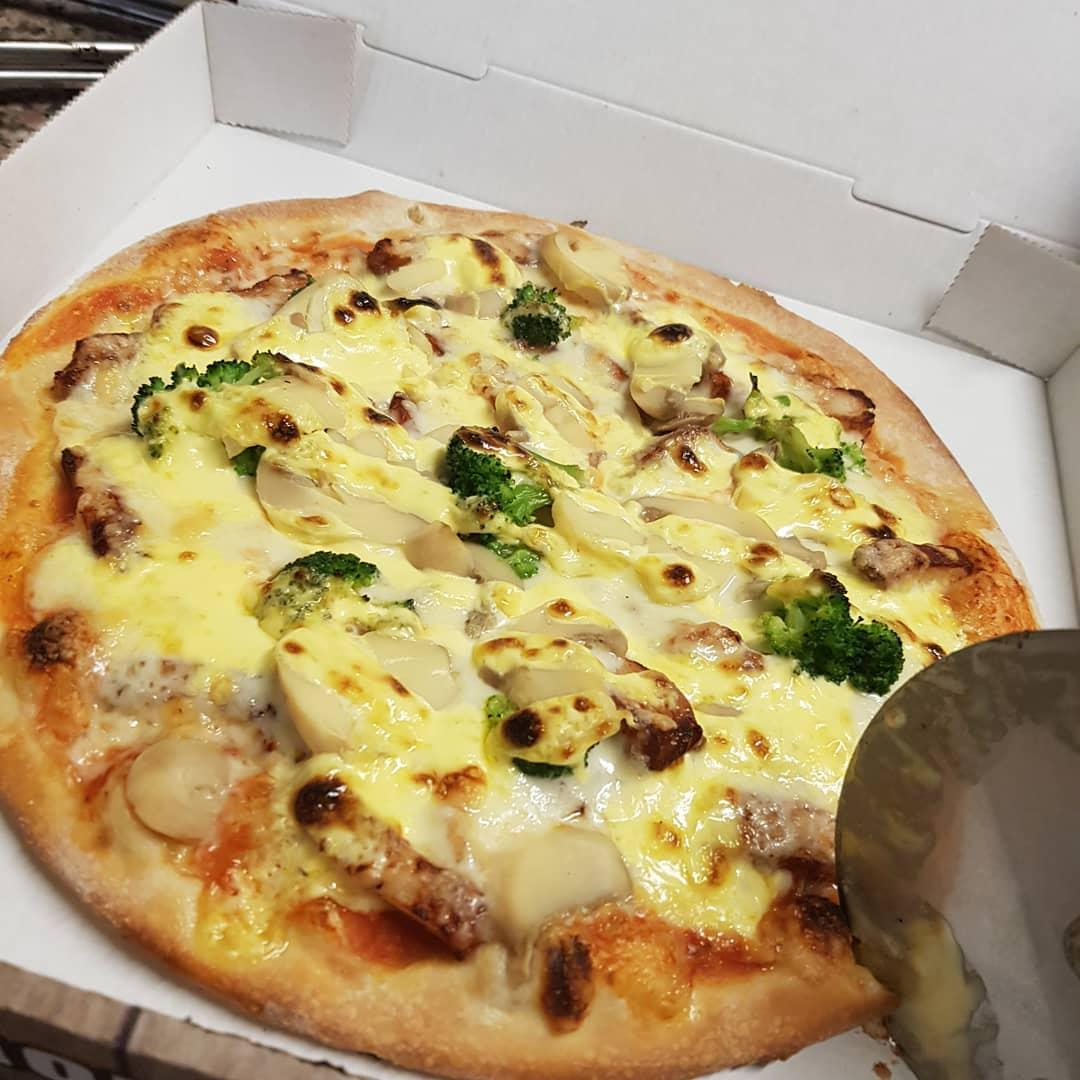Broccoli: (141, 341, 338, 452), (751, 549, 885, 692), (435, 409, 561, 541), (493, 669, 636, 778), (735, 381, 866, 477), (285, 565, 416, 656), (501, 277, 588, 358)
Mushroom: (459, 795, 641, 928), (589, 481, 774, 610), (97, 695, 248, 836), (475, 589, 649, 706), (321, 261, 482, 382), (617, 343, 730, 422)
Pizza: (0, 199, 1045, 1076)
